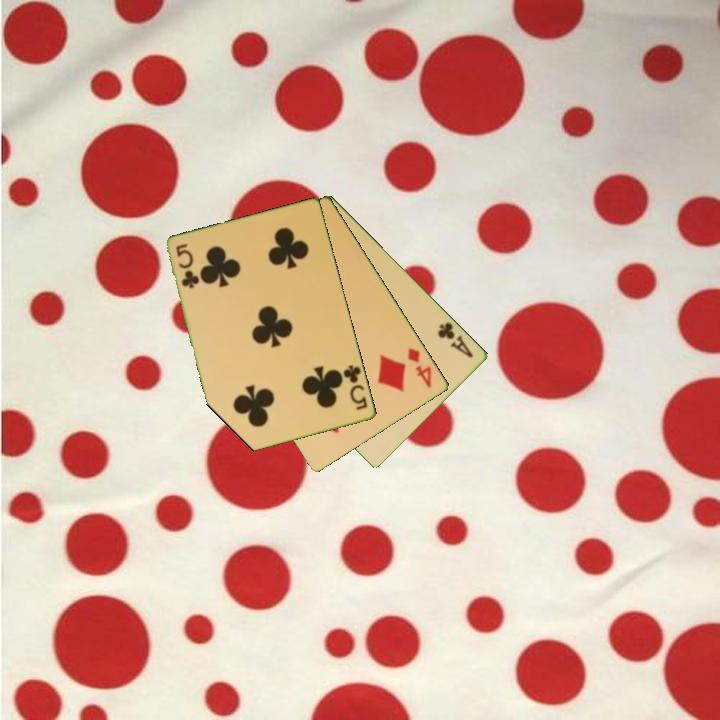4d: (404, 344, 435, 391)
5c: (340, 361, 371, 413), (173, 240, 201, 292)
Ac: (434, 318, 476, 361)
